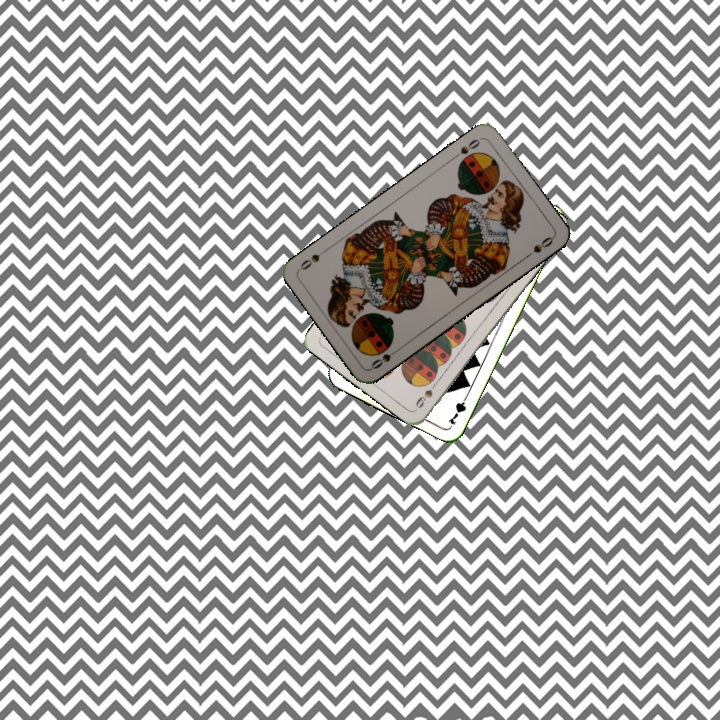G7: (444, 389, 471, 428)
S9: (411, 376, 441, 411)
SO: (367, 344, 403, 372), (448, 134, 484, 162)
